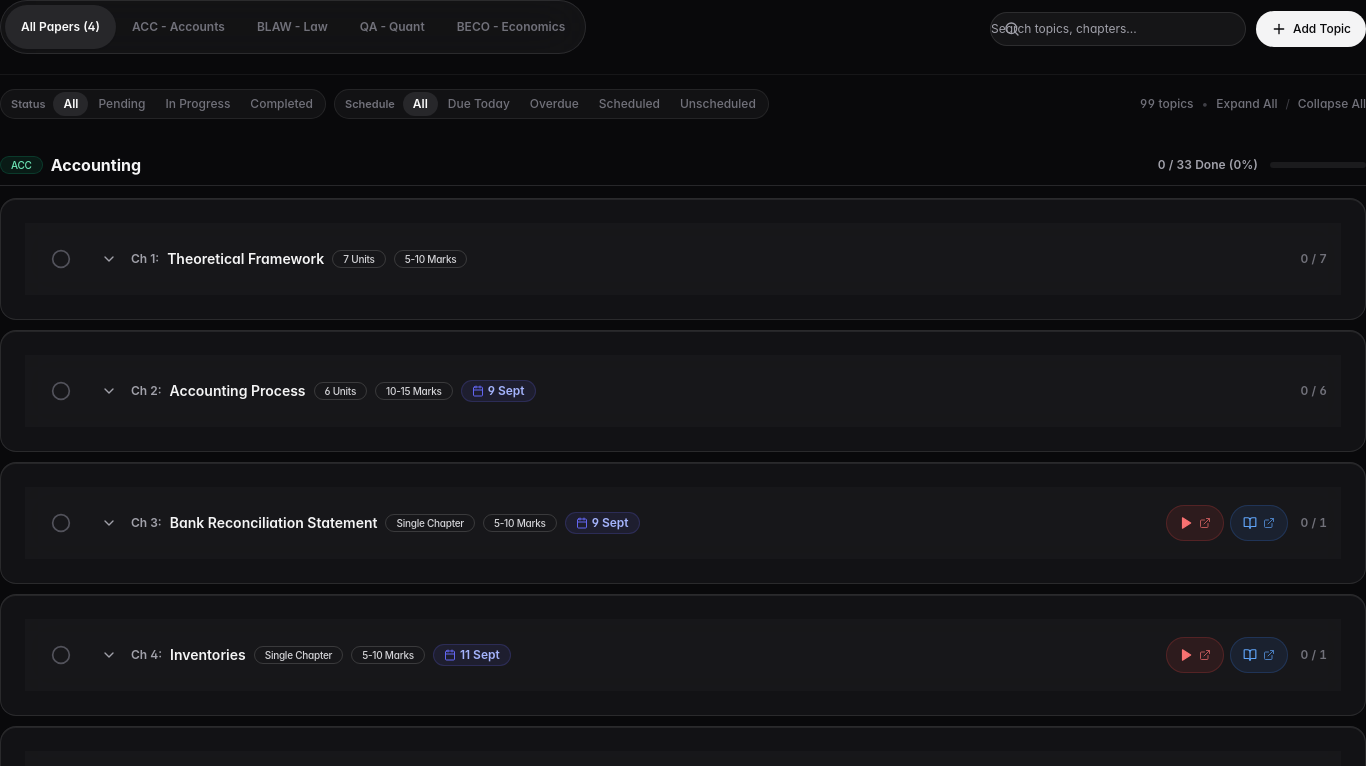
Test: Tier 1 - Feature 10: Checklist Search & Multi-Criteria Filtering › displays empty state card when search query has no matches and provides reset
This screenshot has width=1366, height=766.
Type "NonExistentTopicQueryXYZ123" into the field with placeholder "Search topics, chapters...". click: (1118, 29)
box: [990, 12, 1246, 46]
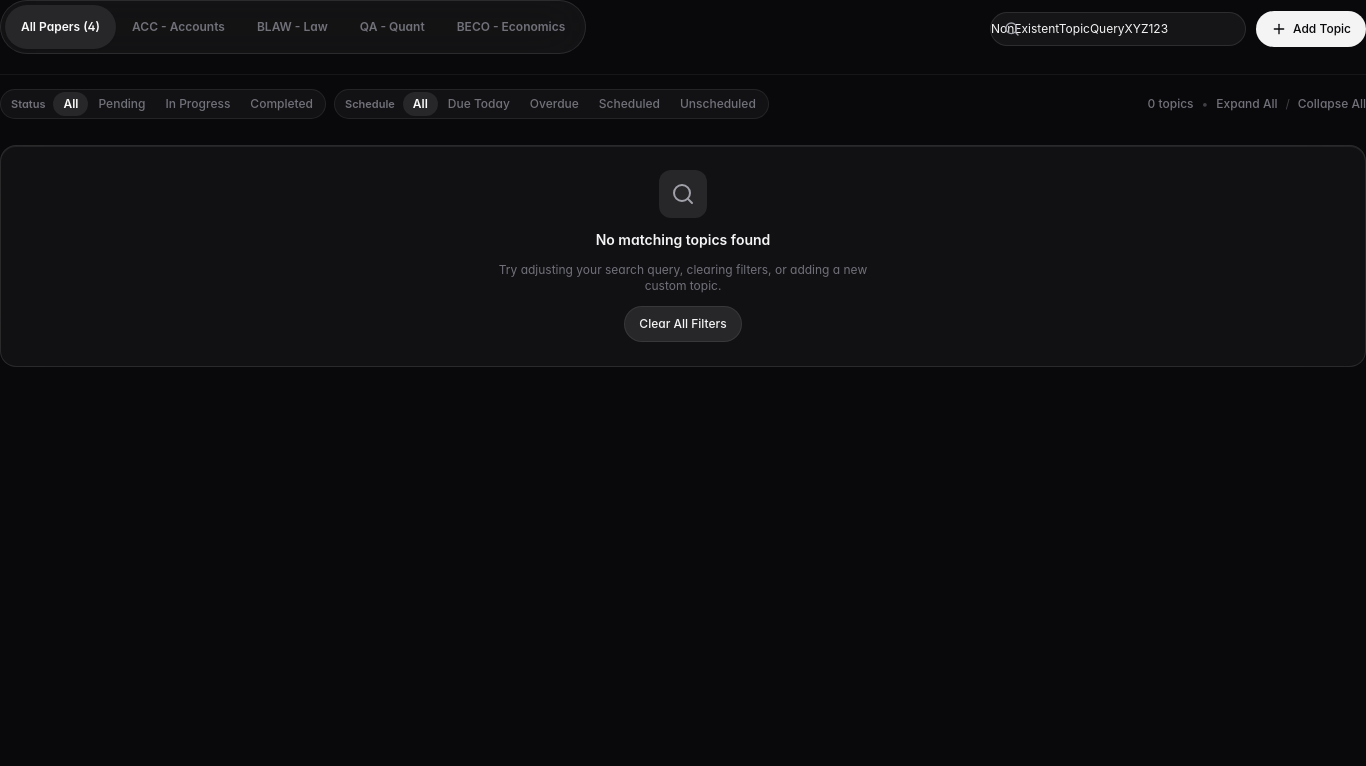
Expected: the heading "No matching topics found" is shown, [596, 231, 770, 248]
Click the button "Clear All Filters". click: (683, 324)
box: [624, 306, 742, 342]
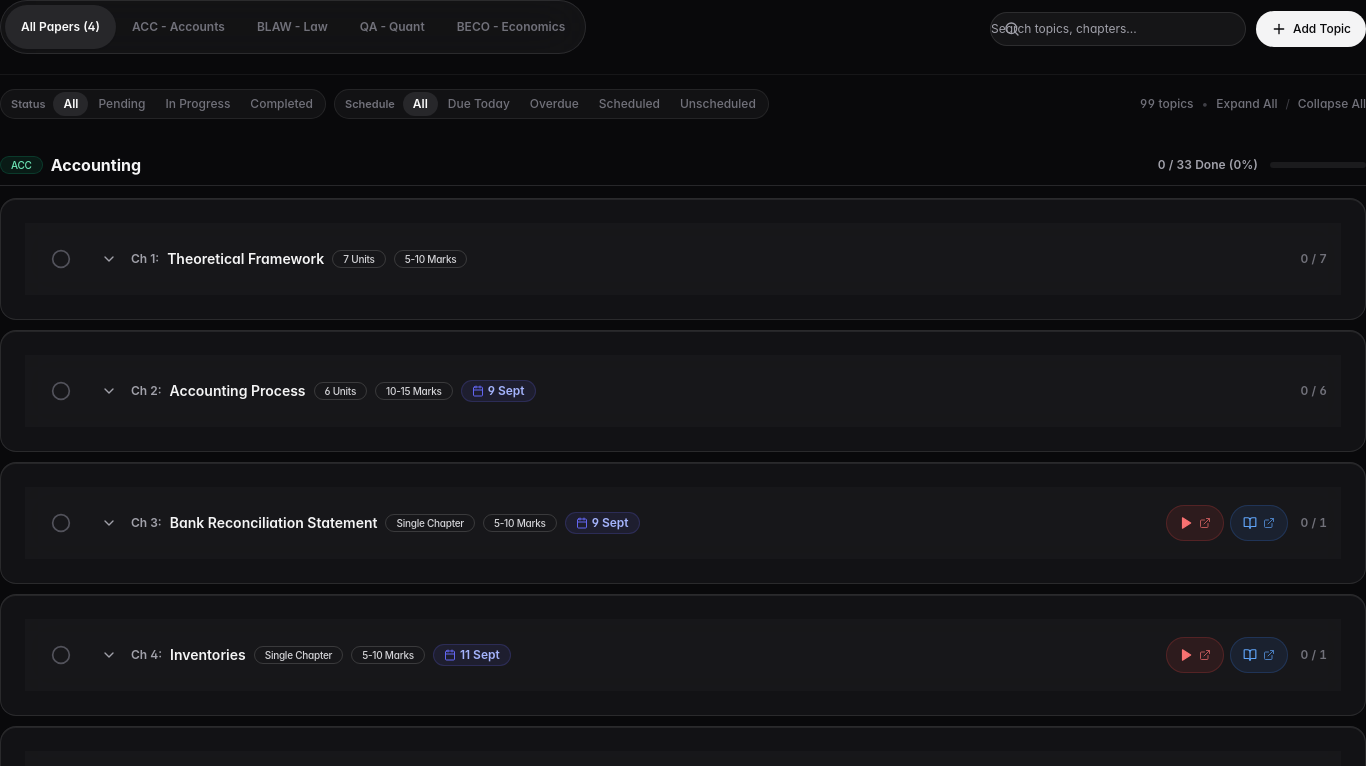
Expected: the heading "No matching topics found" is gone
